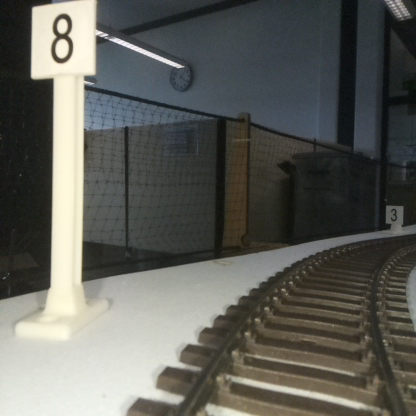white-info-8: (31, 1, 95, 336)
white-stop-3: (386, 205, 403, 233)
